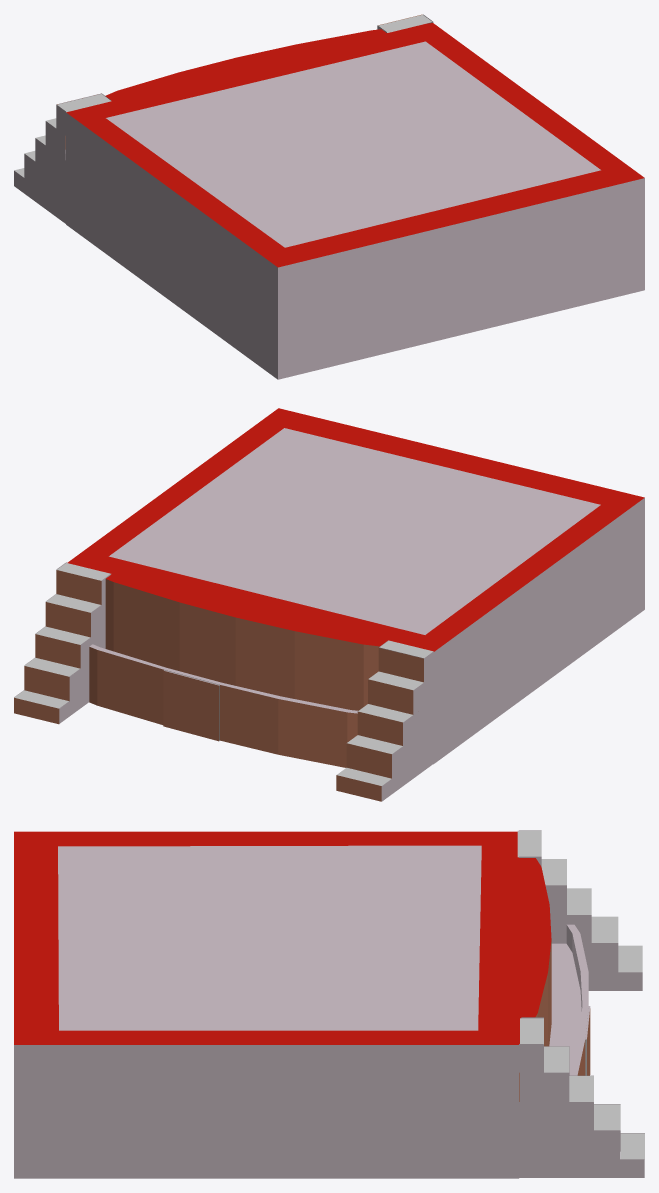
The model's file is stage.FBX.
3 views of the same model, one above another, from view 1: azimuth 30°, elevation 25°; view 2: azimuth 150°, elevation 25°; view 3: azimuth 270°, elevation 25° (orthographic). The views are drawn at different scales.
Parts seen in each view (by area): view 1: Plane.039; view 2: Plane.039; view 3: Plane.039.
Part boxes in pixels (x1,y1,x2,y2): Plane.039: [14, 14, 644, 379]; Plane.039: [14, 408, 644, 801]; Plane.039: [14, 830, 644, 1178].
Bounding box in the file's own units: 2 × 2.5 × 0.5903.
